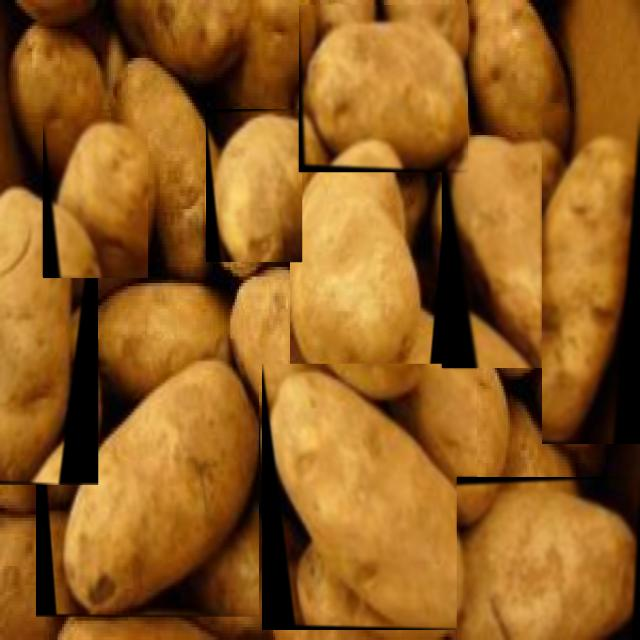potato: (36, 340, 259, 618), (262, 364, 477, 630), (290, 140, 450, 413), (542, 112, 640, 444), (0, 174, 98, 486), (457, 477, 640, 640), (299, 5, 468, 172), (442, 137, 564, 368), (43, 119, 148, 278), (206, 109, 302, 262)
